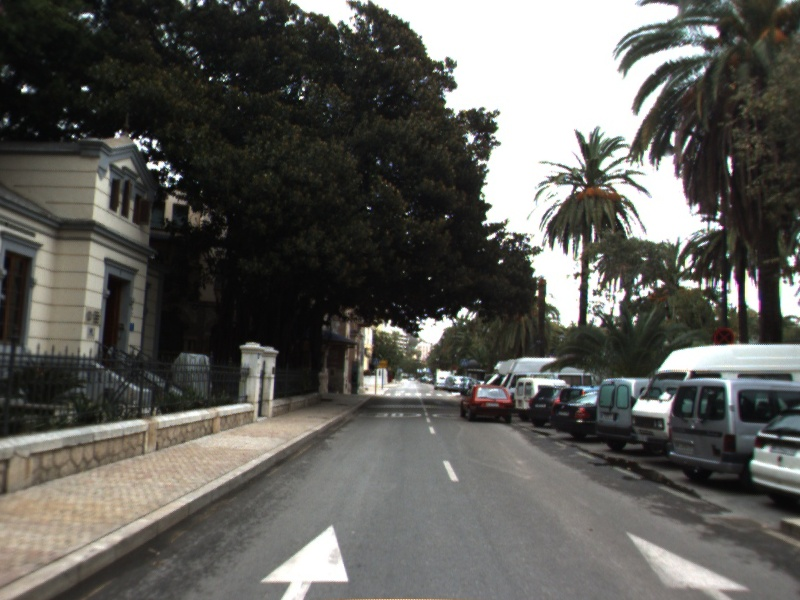STRAIGHT: (623, 529, 761, 600), (257, 522, 351, 600)
